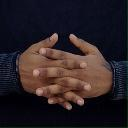hand: (17, 33, 92, 110), (33, 34, 114, 105)
